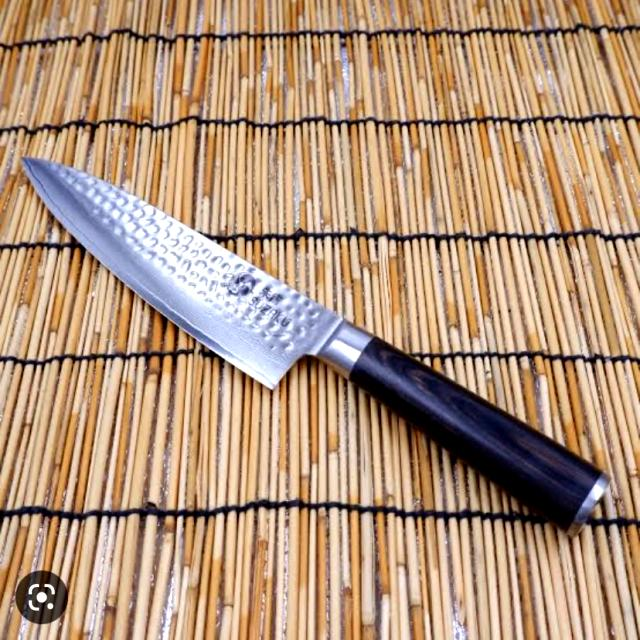knife: (6, 142, 631, 553)
